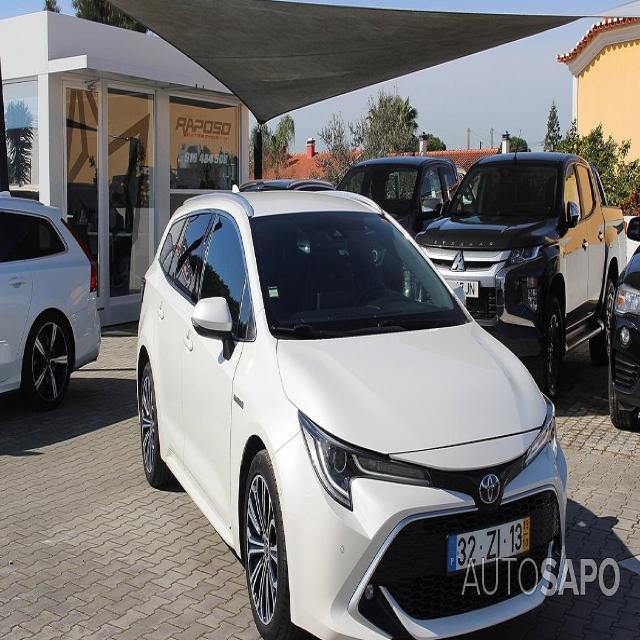portuguese-license-plates: (446, 512, 538, 581)
